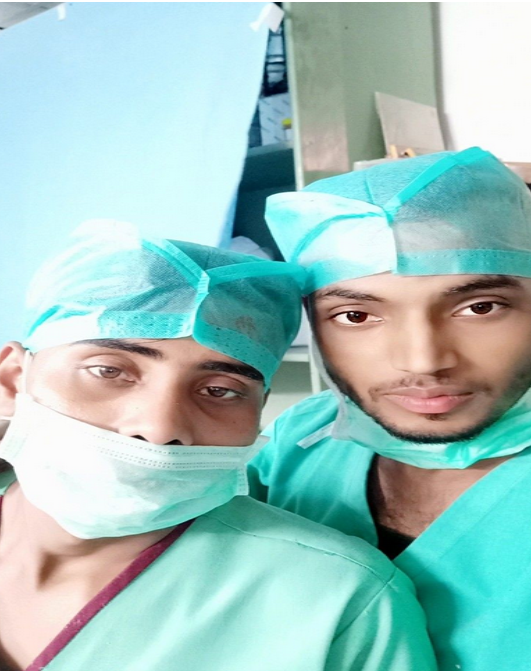mask_weared_incorrect: (4, 216, 305, 543), (271, 151, 531, 449)
